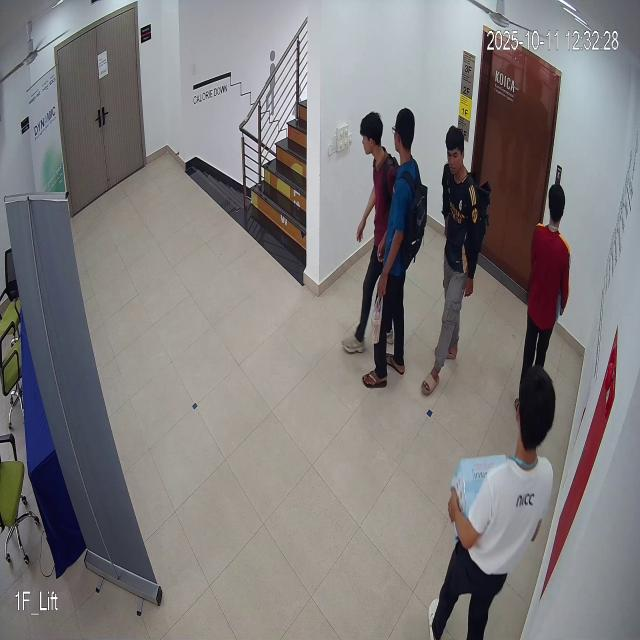face: (439, 124, 471, 190)
